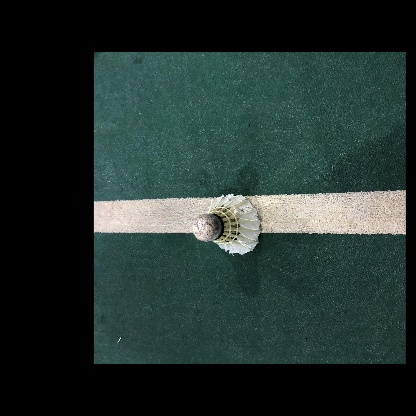ball_single: (193, 194, 261, 255)
